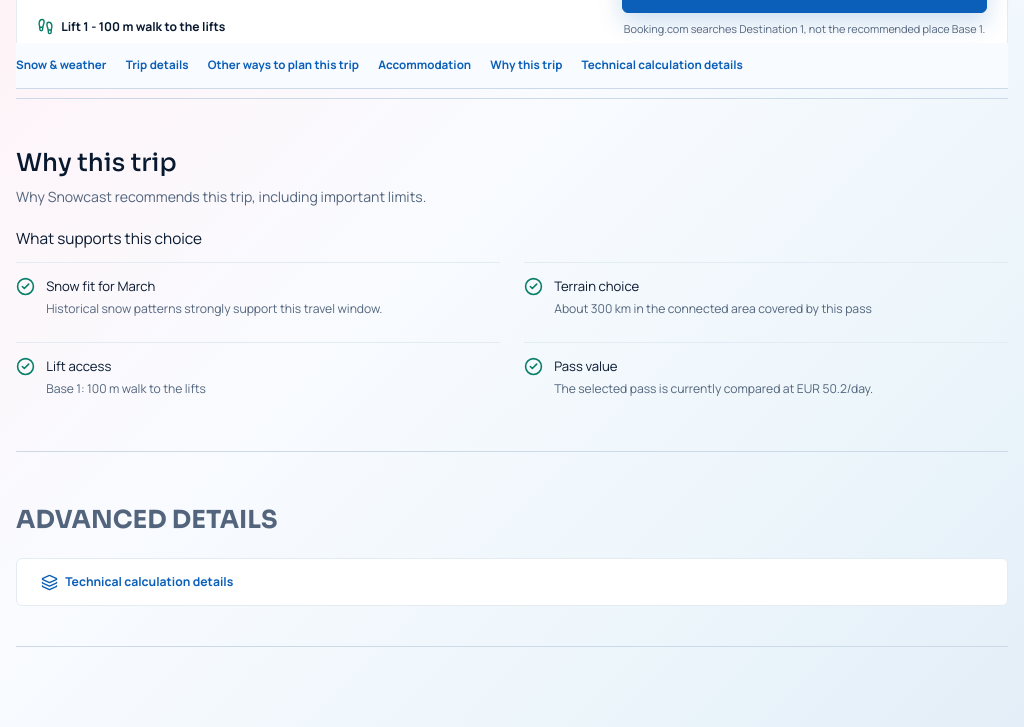
it: keeps domain terrain aligned across dossier evidence and scoring
(page scrolled)
Expected: the element showing "Advanced details Technical calculation details" is shown, x1=16 y1=452 x2=1008 y2=647
Click the heading "Technical calculation details".
click(137, 582)  # box x1=41 y1=573 x2=233 y2=590
(page scrolled)
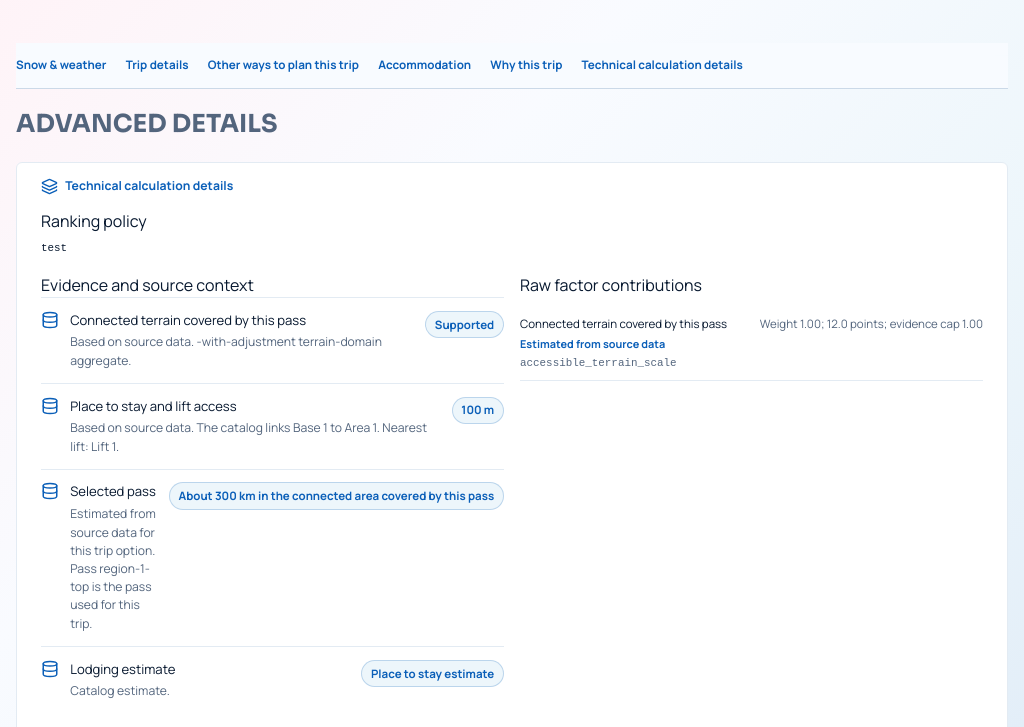
Result: the text "Estimated from source data" is shown at x1=520 y1=336 x2=665 y2=351
